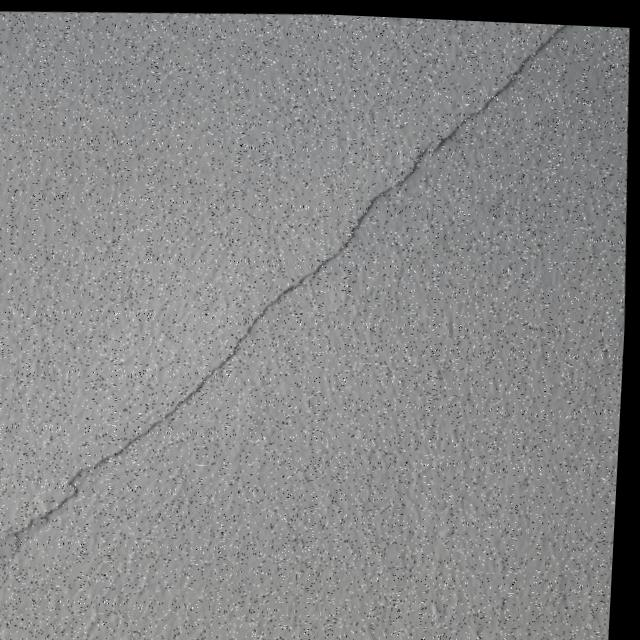Crack: (0, 0, 598, 603)
